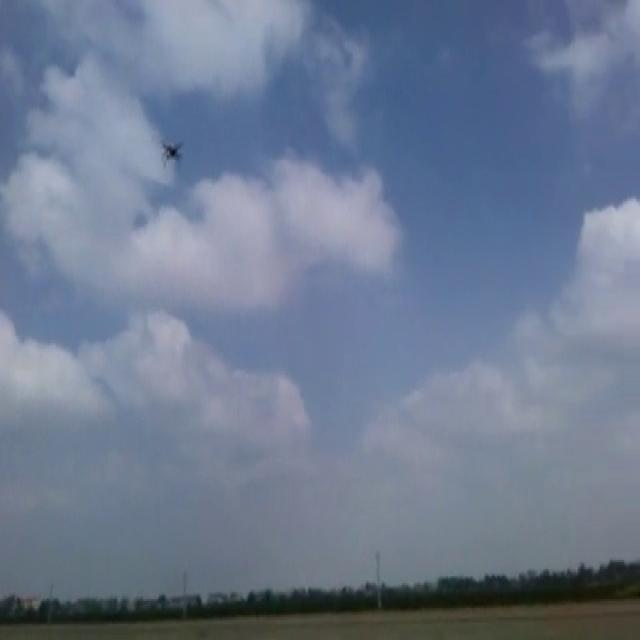drone: (157, 135, 185, 169)
